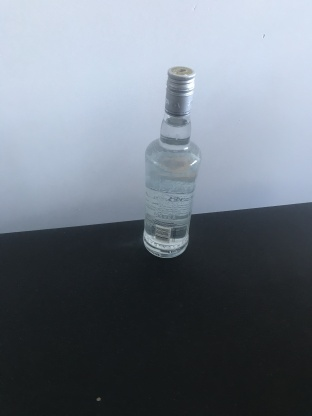nakretka: (163, 65, 196, 119)
